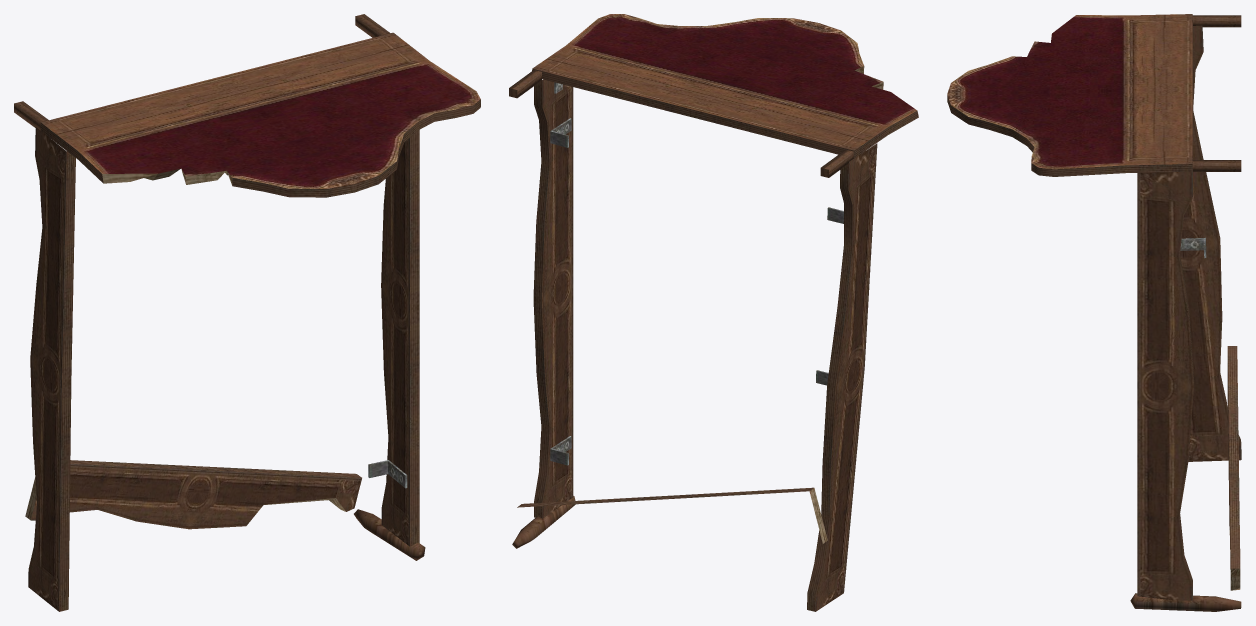
Rendered from furniture_bed_d.glb.
The picture shows the model from 3 angles, left to right: view 1: azimuth 30°, elevation 25°; view 2: azimuth 150°, elevation 25°; view 3: azimuth 270°, elevation 25°; orthographic projection. The views are drawn at different scales.
Size of the model in its own units: 78.35 by 105 by 61.88.
Materials: 1 (1 with a texture image).
